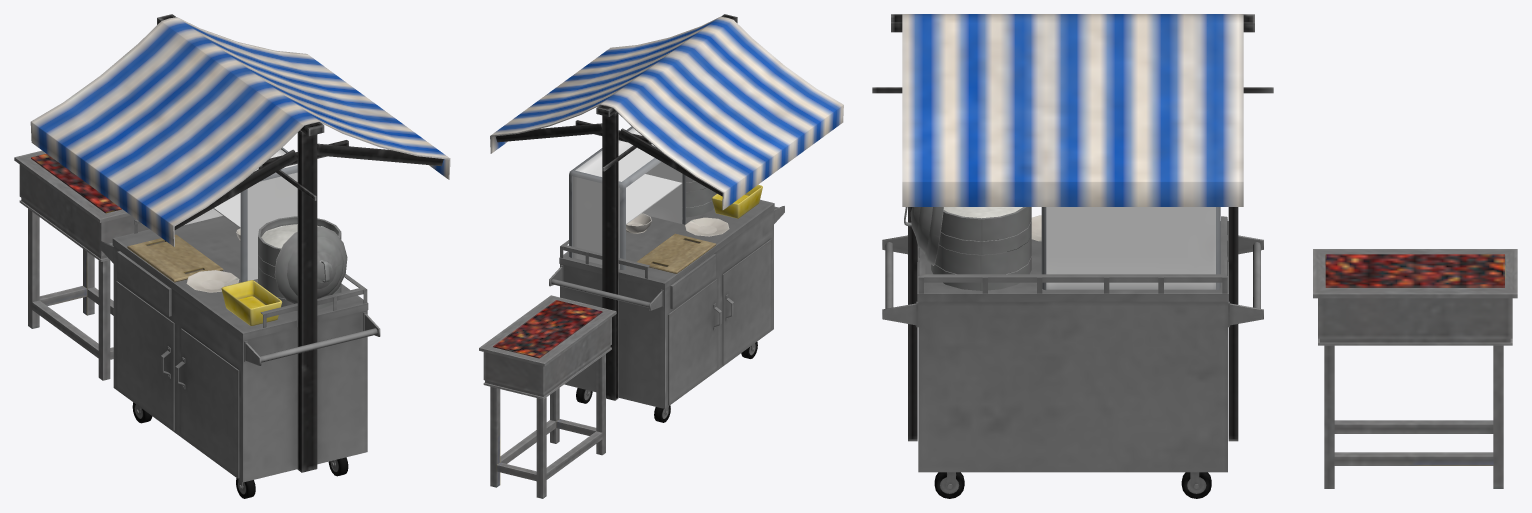
The model's file is XeDayCom.fbx.
The picture shows the model from 3 angles, left to right: view 1: azimuth 30°, elevation 25°; view 2: azimuth 150°, elevation 25°; view 3: azimuth 270°, elevation 25°; orthographic projection. The views are drawn at different scales.
Visible parts, largest first — view 1: 2, 1, 3; view 2: 2, 1, 3; view 3: 2, 1, 3.
Boxes of the visible parts, x1,y1,x2,y2 form: 2: (30, 14, 450, 472); 1: (100, 147, 380, 498); 3: (14, 150, 282, 380); 2: (490, 14, 843, 400); 1: (549, 126, 784, 422); 3: (479, 184, 762, 498); 2: (872, 14, 1273, 441); 1: (882, 207, 1263, 498); 3: (1031, 215, 1517, 488).
Size of the model in its own units: 245 by 320 by 413.
